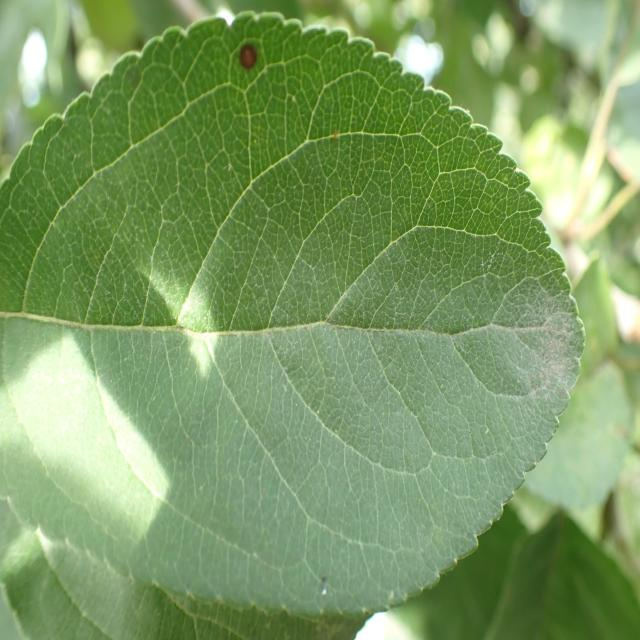Black Rot: (237, 21, 269, 100)
